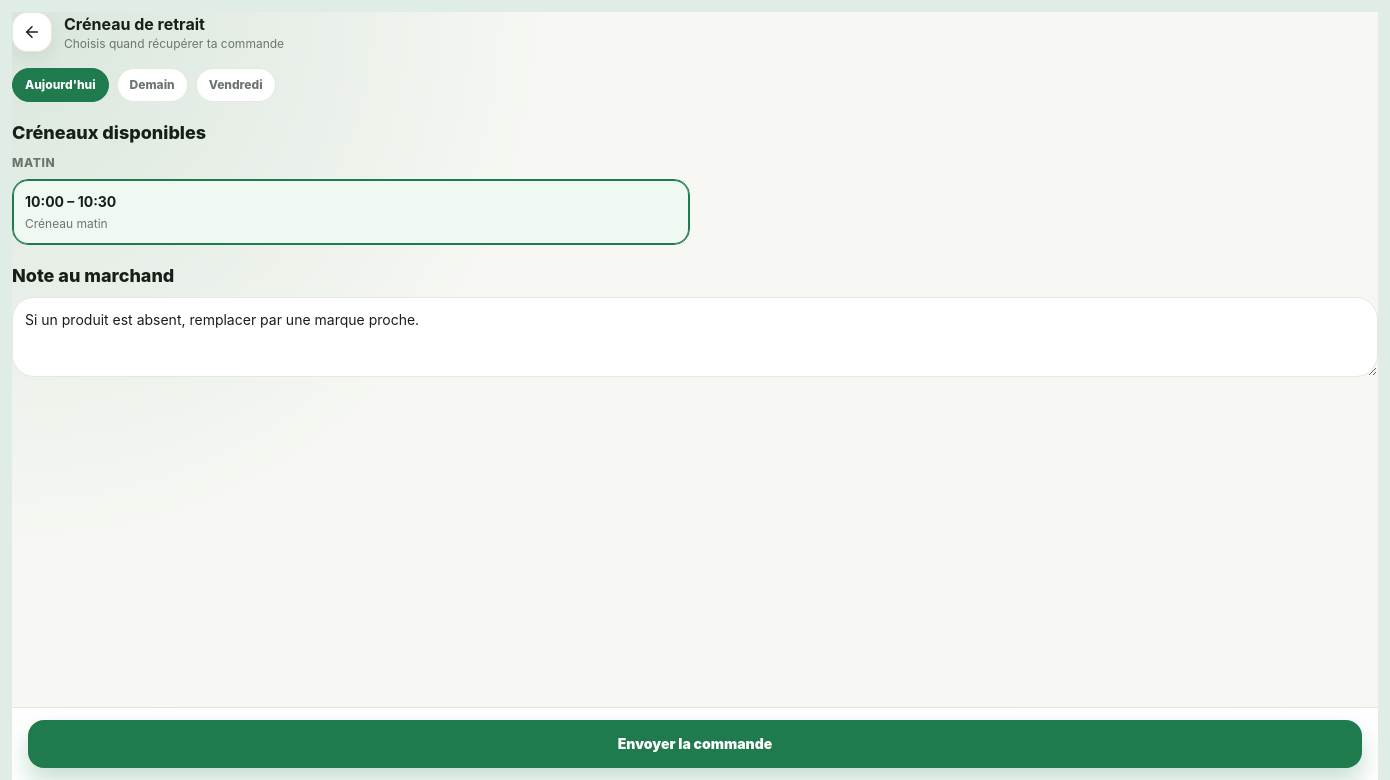
SlotPage (S14-004) › gère un créneau devenu trop proche : message métier, Kadhia et note conservées, créneaux rechargés
Click the button "Envoyer la commande" at (695, 744), box [28, 720, 1362, 768]
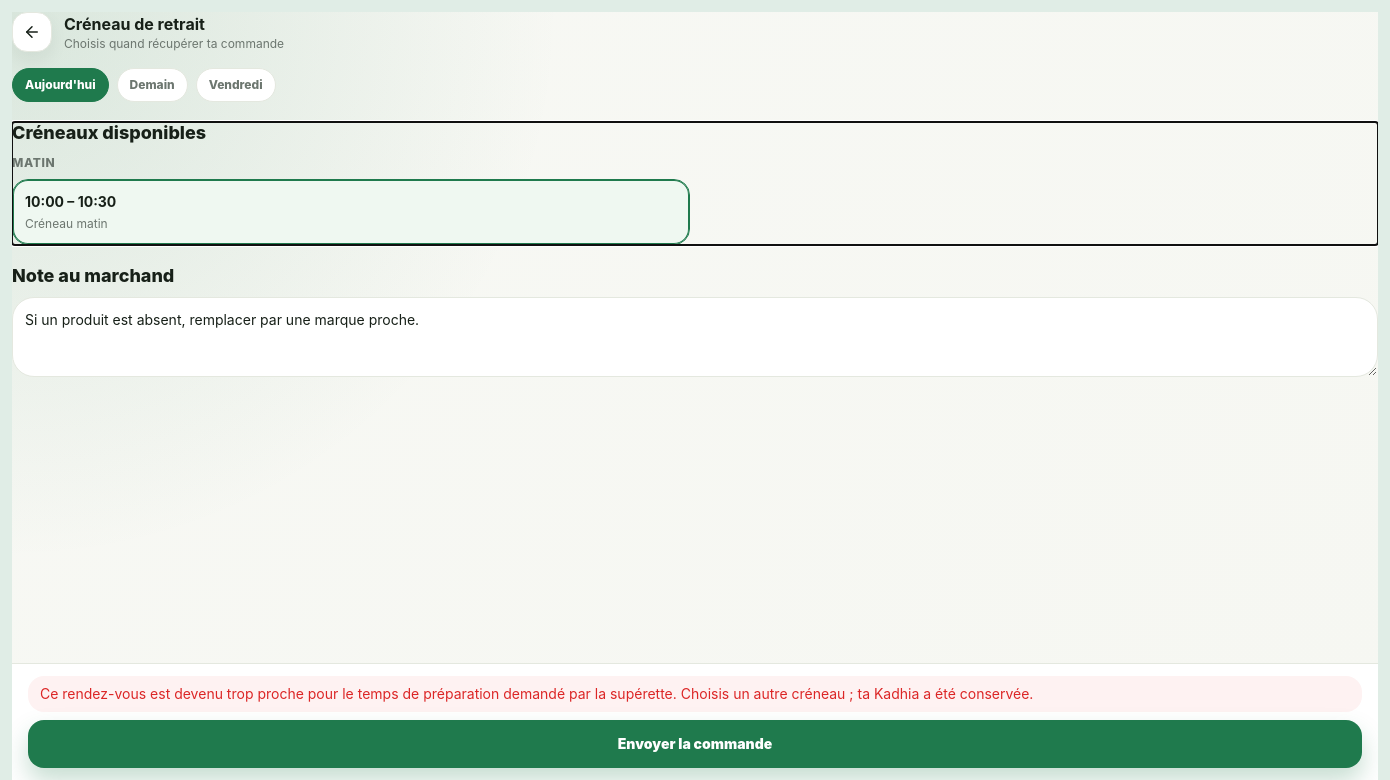
Expected: the text box holds "Si un produit est absent, remplacer par une marque proche.", [12, 297, 1378, 377]
Expected: the text "Ce rendez-vous est devenu trop proche pour le temps de préparation demandé par la supérette. Choisis un autre créneau ; " is shown, [40, 685, 1033, 702]
